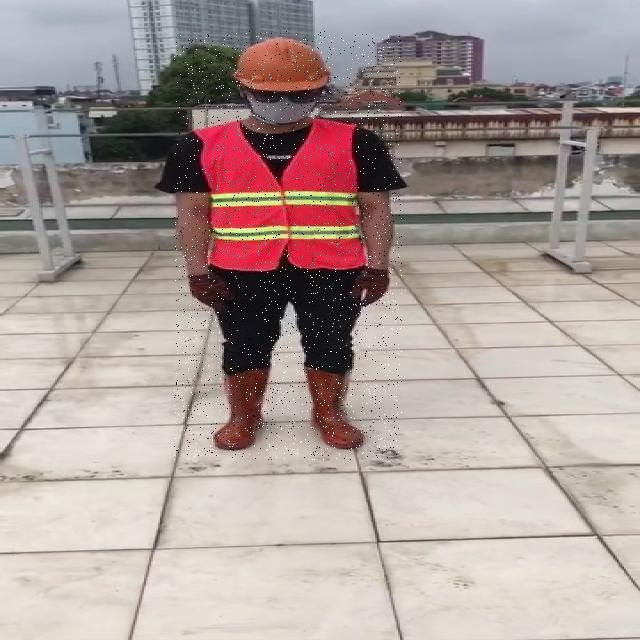boots: (302, 368, 366, 451), (213, 366, 267, 452)
helmet: (228, 31, 336, 94)
vest: (198, 120, 364, 272)
